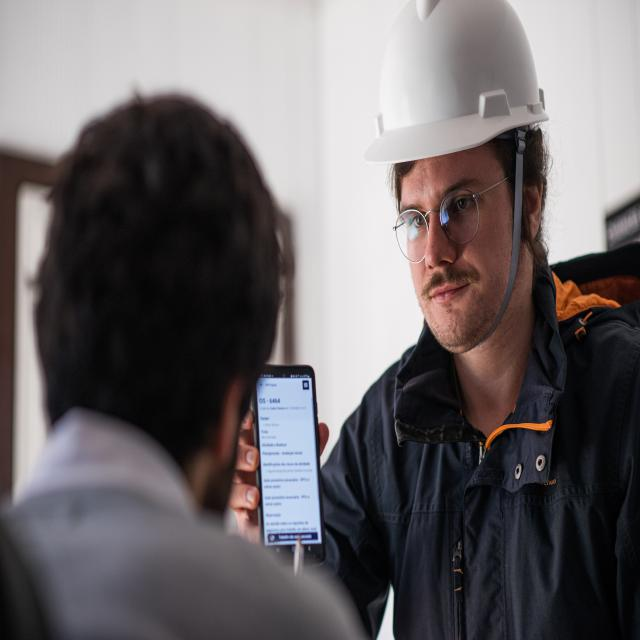capacete: (362, 0, 552, 170)
